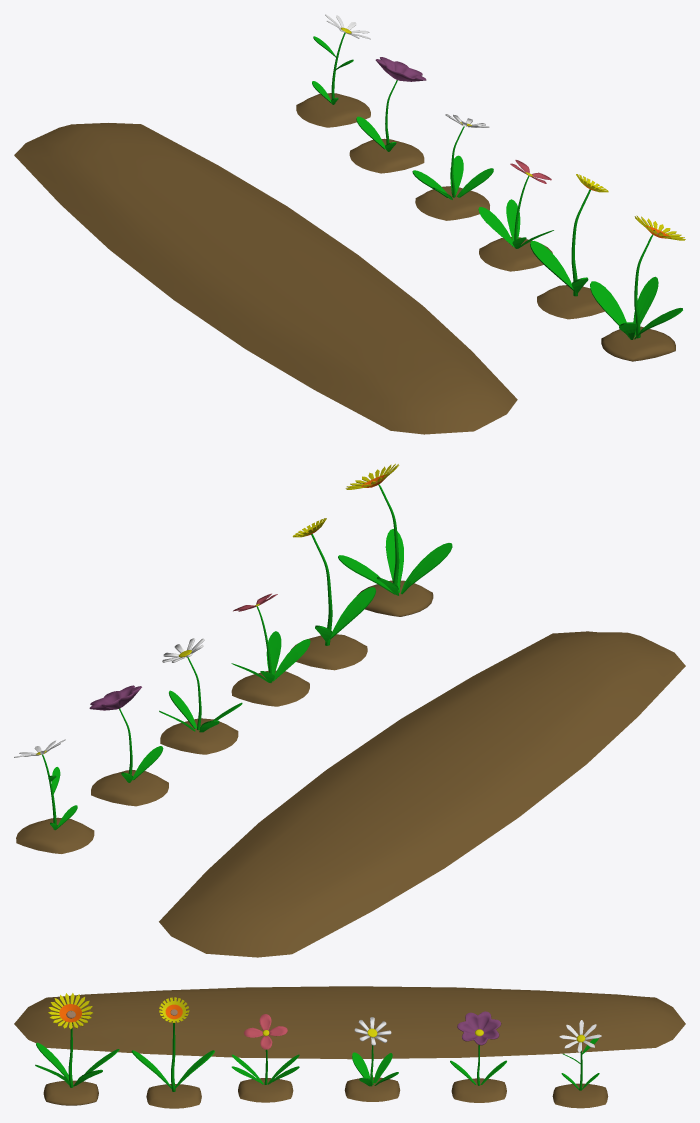
The model's file is FlowersTwo.fbx.
3 views of the same model, one above another, from view 1: azimuth 30°, elevation 25°; view 2: azimuth 150°, elevation 25°; view 3: azimuth 270°, elevation 25° (orthographic). The views are drawn at different scales.
Visible parts, largest first — view 1: 8, f, c, b, e, d, a; view 2: 8, f, d, e, b, c, a; view 3: 8, f, b, e, d, c, a.
Part boxes in pixels (box(x1,y1,x2,y2)): 8: box(14, 123, 517, 434); f: box(590, 215, 685, 361); c: box(412, 114, 493, 220); b: box(349, 57, 426, 173); e: box(530, 174, 608, 319); d: box(478, 160, 553, 271); a: box(296, 14, 370, 127); 8: box(159, 631, 685, 957); f: box(338, 463, 452, 616); d: box(231, 593, 310, 706); e: box(291, 518, 375, 670); b: box(89, 685, 168, 806); c: box(159, 638, 242, 754); a: box(14, 739, 94, 853); 8: box(14, 986, 685, 1059); f: box(35, 993, 119, 1105); b: box(450, 1011, 506, 1102); e: box(131, 997, 214, 1108); d: box(231, 1014, 299, 1102); c: box(344, 1017, 400, 1101); a: box(552, 1020, 608, 1108).
Size of the model in its own units: 9923 by 3837 by 21183.
